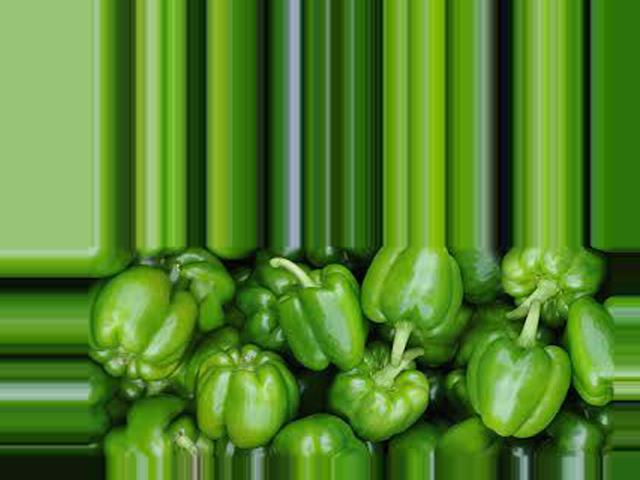bell_pepper: (86, 251, 607, 455)
